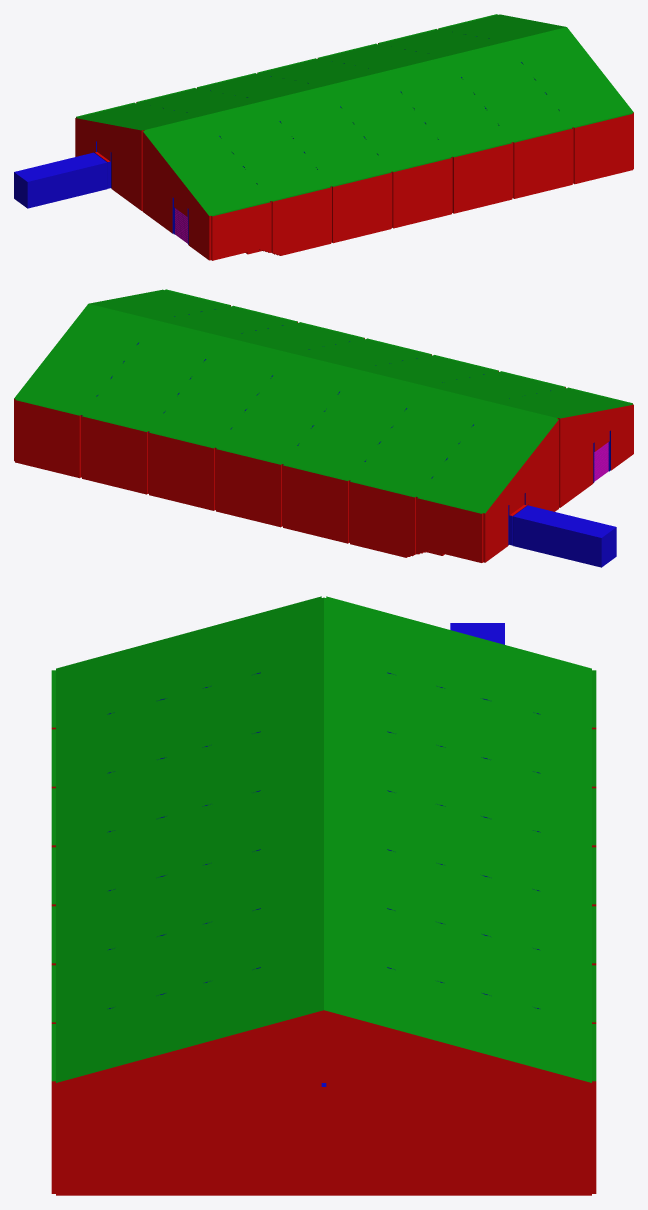
File: WarehouseWithMaterials.fbx
3 views of the same model, one above another, from view 1: azimuth 30°, elevation 25°; view 2: azimuth 150°, elevation 25°; view 3: azimuth 270°, elevation 25° (orthographic). The views are drawn at different scales.
Parts seen in each view (by area): view 1: Body1; view 2: Body1; view 3: Body1.
Boxes of the visible parts, x1,y1,x2,y2 form: Body1: (14, 14, 633, 260); Body1: (14, 289, 633, 567); Body1: (51, 596, 596, 1195).
Bounding box in the file's own units: 5380 × 939 × 2500.
